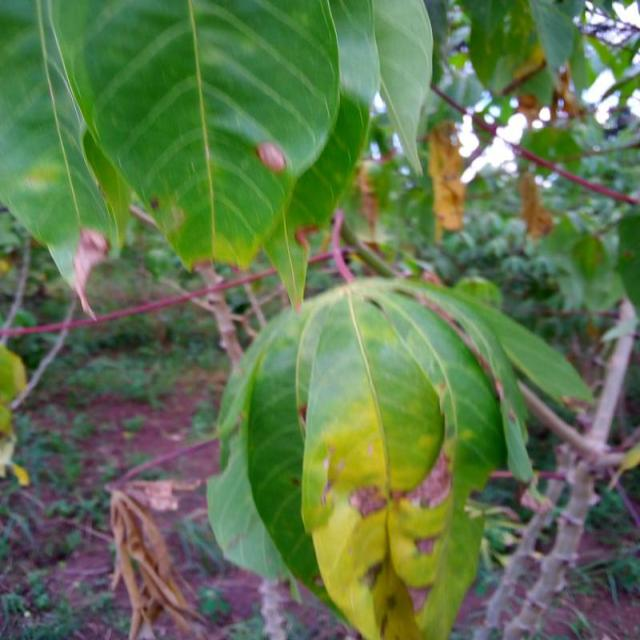cassava leaf: (208, 273, 592, 638), (1, 0, 433, 313)
